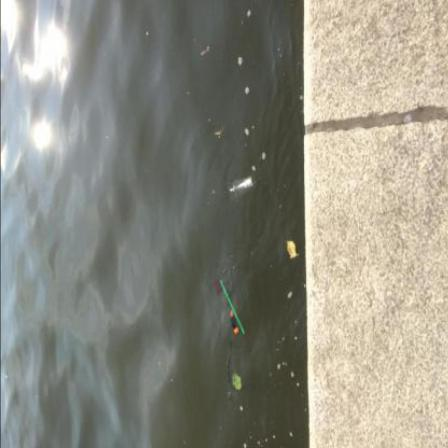Cup: (228, 177, 255, 201)
Other plastic: (230, 311, 239, 335)
Straw: (221, 280, 246, 335)
